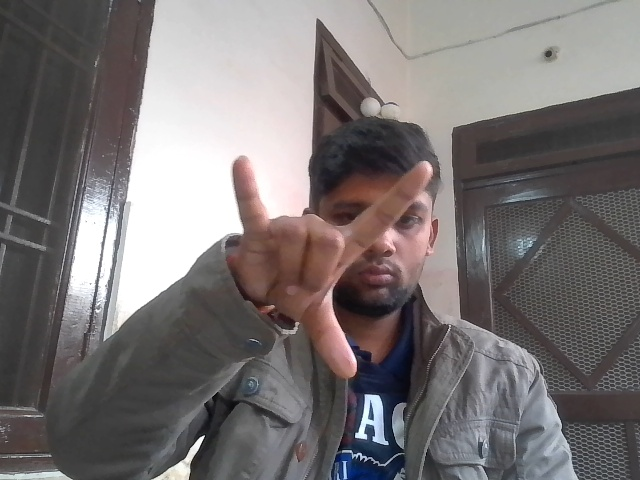ILoveYou: (214, 143, 437, 391)
